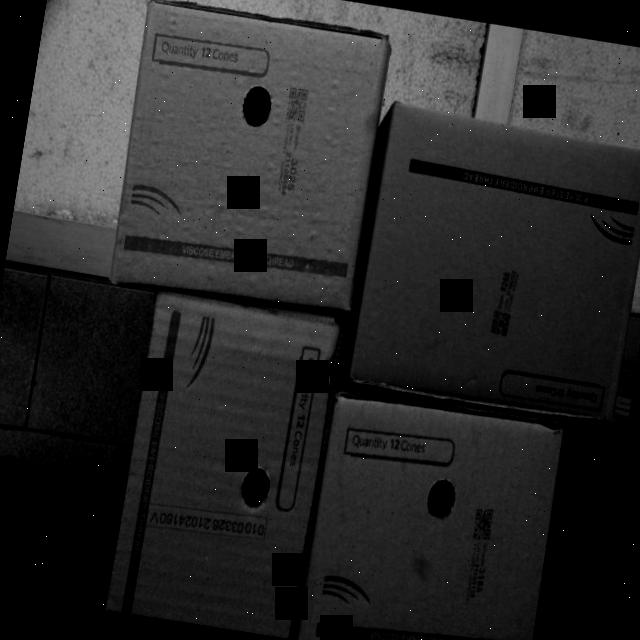box: (348, 104, 640, 422), (106, 0, 394, 314), (111, 289, 341, 638), (298, 391, 569, 640)
